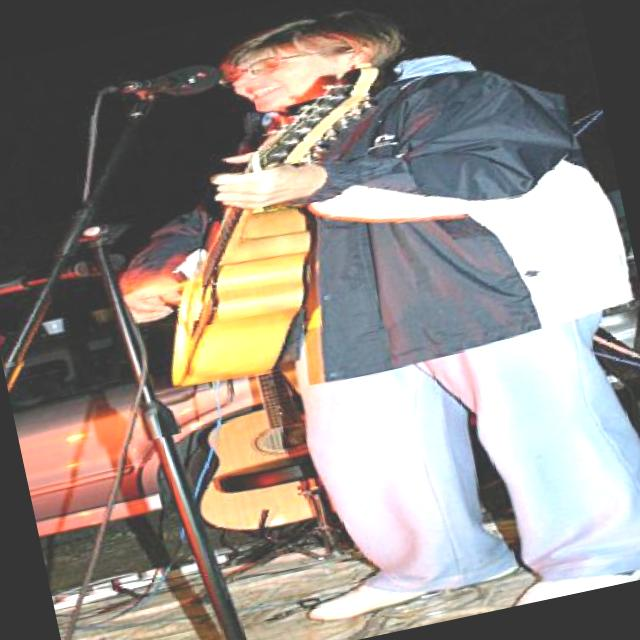Person: (65, 0, 637, 623)
